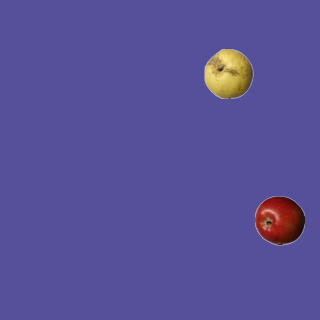Apple Braeburn: (254, 195, 304, 245)
Apple Golden 1: (203, 48, 253, 98)
